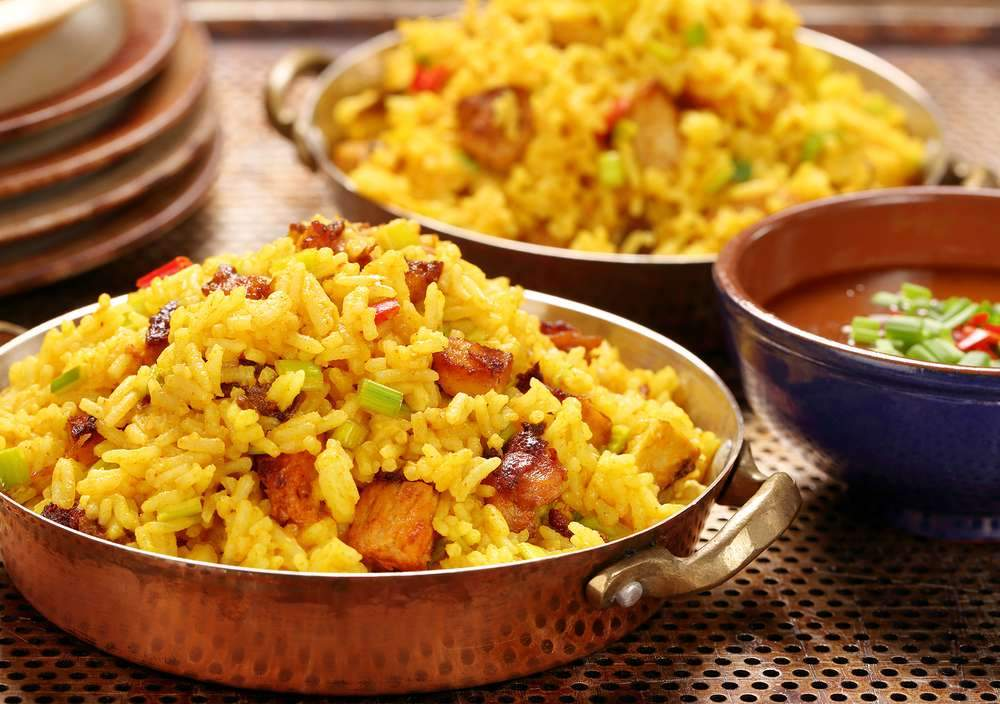curry: (794, 250, 1000, 359)
rice: (32, 229, 682, 533), (351, 2, 902, 187)
